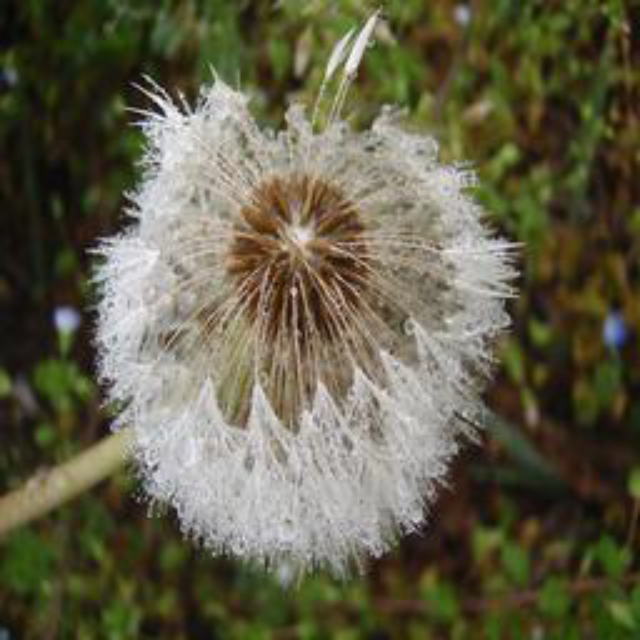dandelion: (78, 53, 530, 581)
